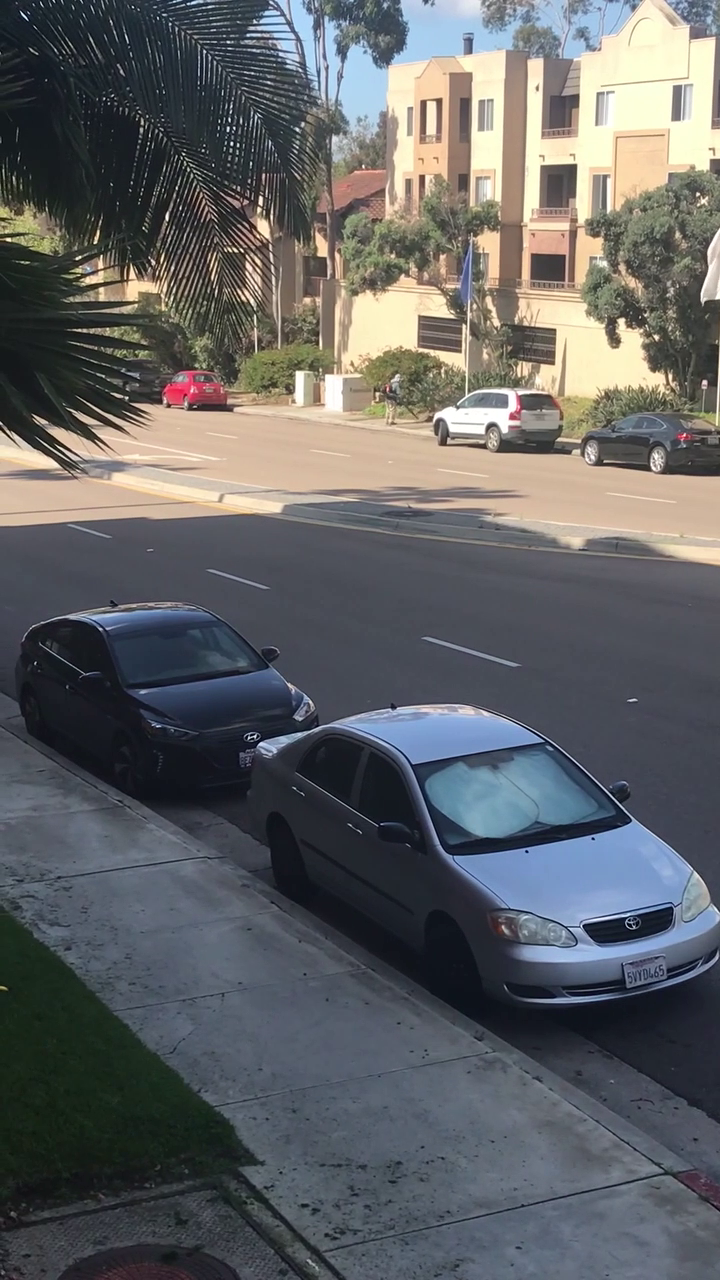car: (228, 704, 706, 1021), (15, 609, 316, 792)
